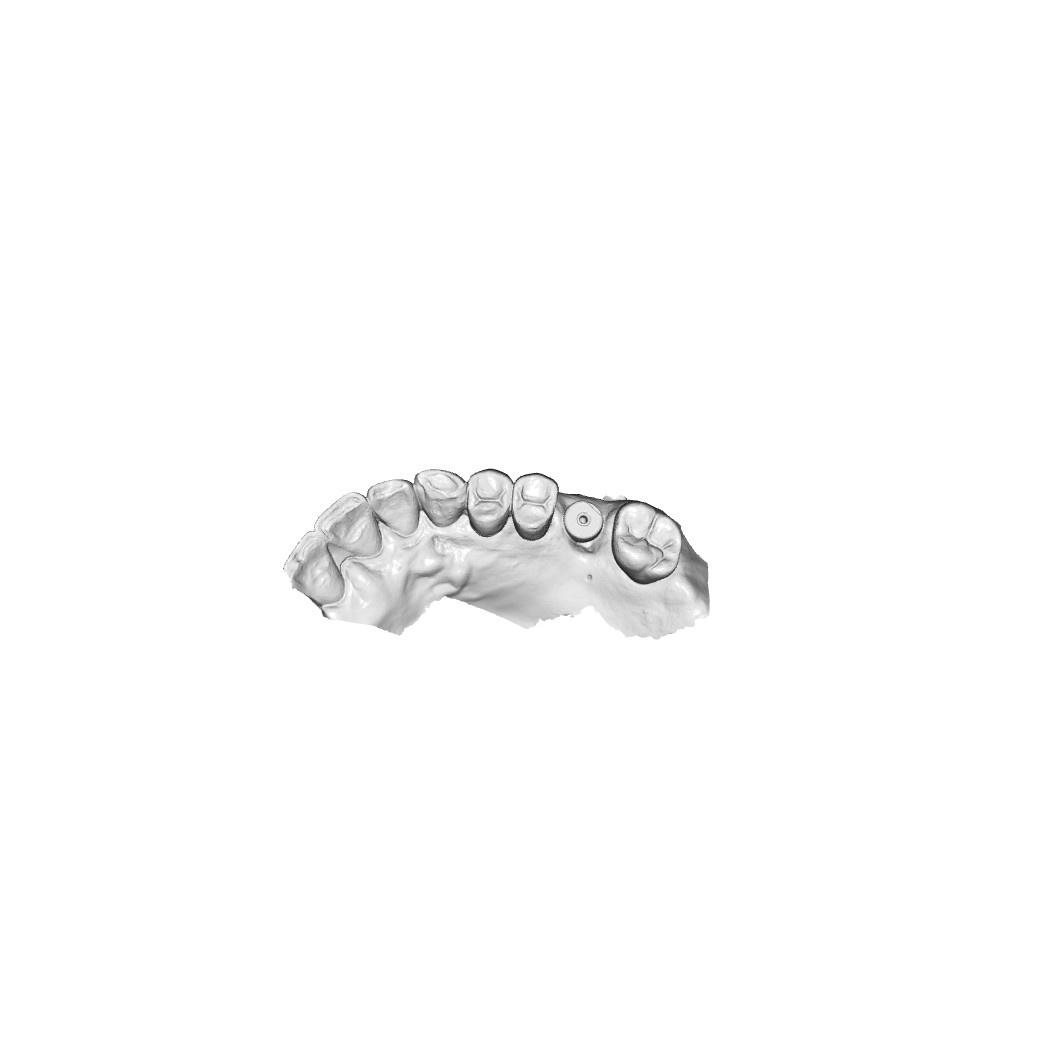canine: (413, 469, 470, 529)
implant: (561, 499, 604, 544)
incisor: (282, 529, 342, 603), (315, 490, 380, 556), (366, 475, 421, 536)
molar: (607, 501, 682, 586)
premolar: (464, 468, 512, 538), (514, 472, 558, 542)
